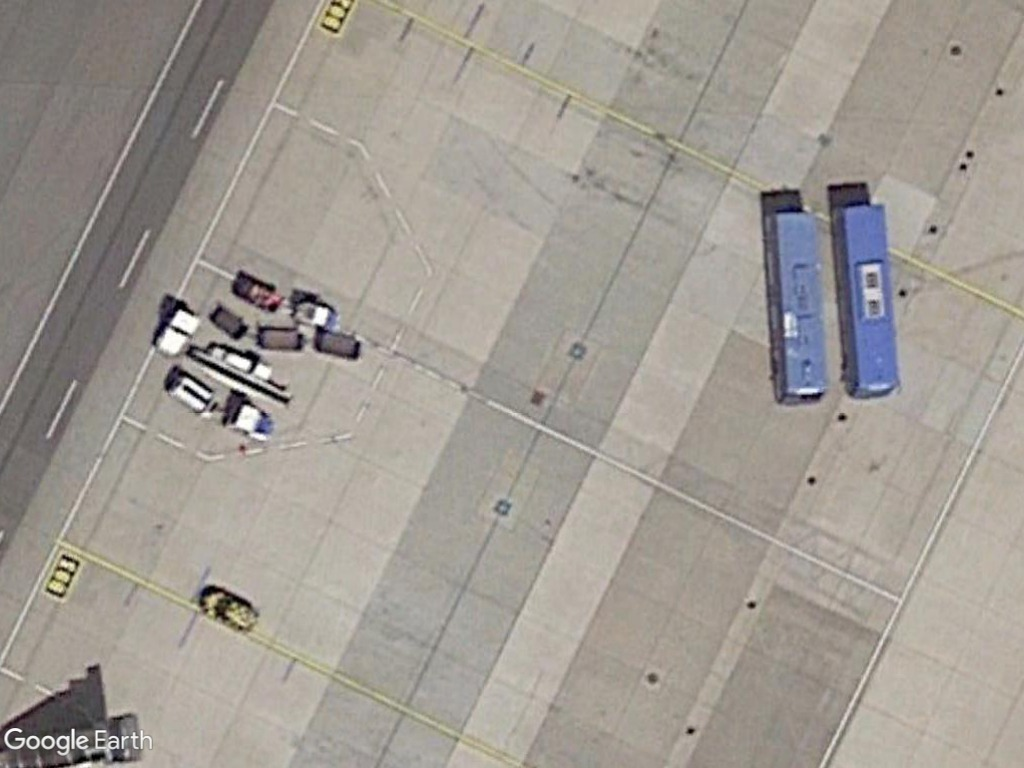bus: (763, 204, 835, 407), (833, 198, 904, 401)
